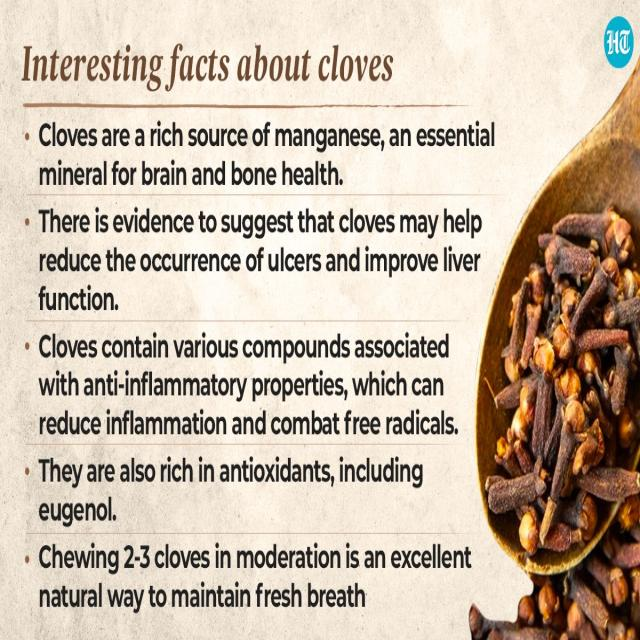clove: (470, 207, 640, 639)
